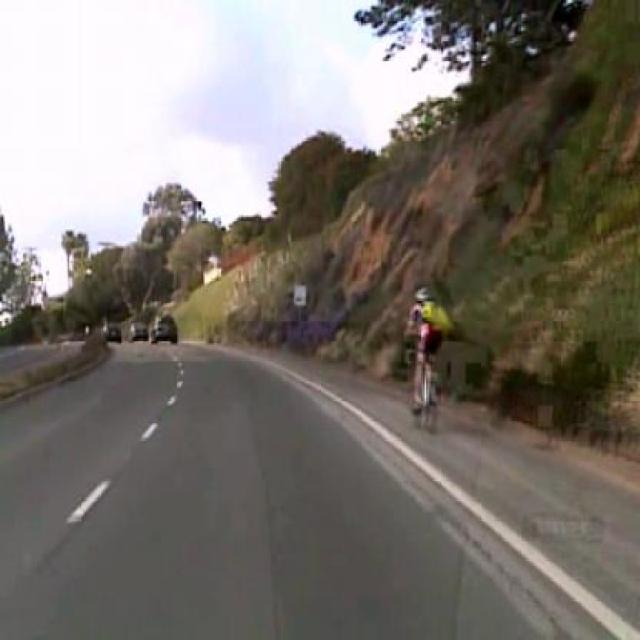speedLimitUrdbl: (292, 283, 306, 307)
